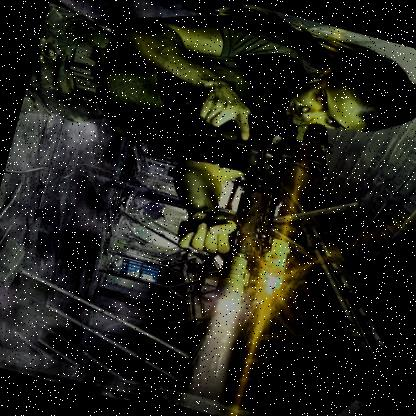rifle: (107, 28, 353, 323)
